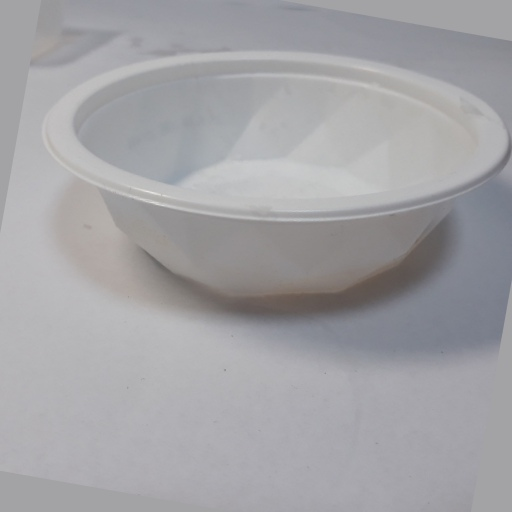Plastic_5: (44, 50, 508, 301)
